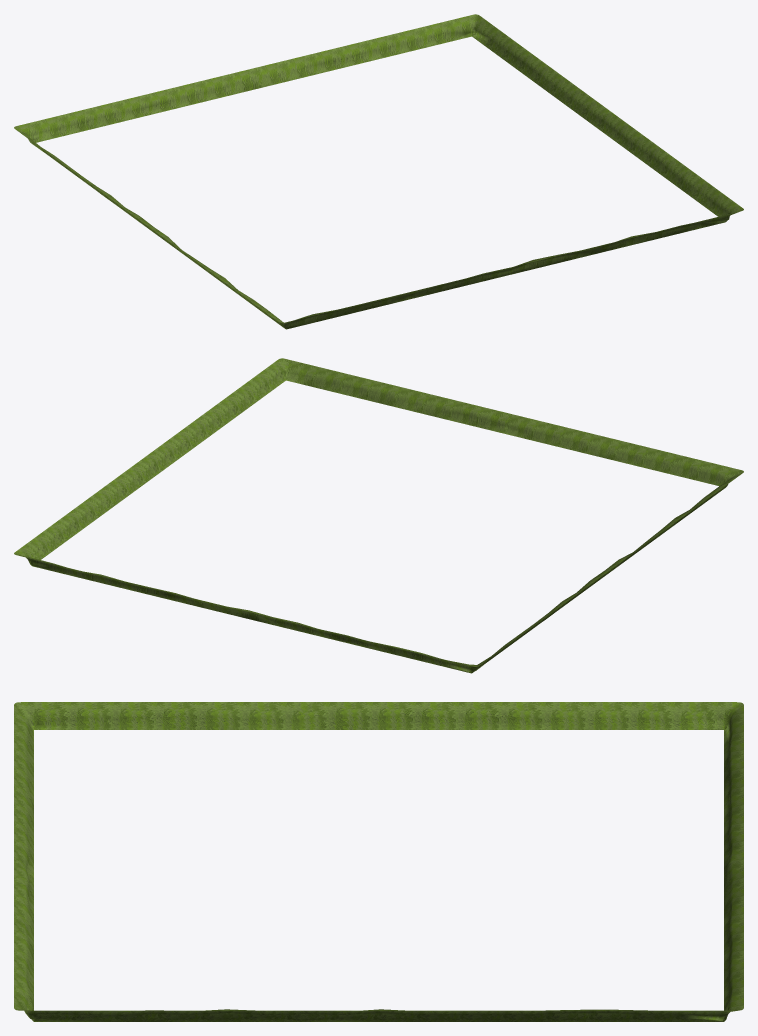
The model's file is border.obj.
3 renders of one model, top to bottom at view 1: azimuth 30°, elevation 25°; view 2: azimuth 150°, elevation 25°; view 3: azimuth 270°, elevation 25°, orthographic. The views are drawn at different scales.
Parts seen in each view (by area): view 1: Box007; view 2: Box007; view 3: Box007.
Boxes of the visible parts, x1=… form: Box007: x1=14, y1=14, x2=743, y2=329; Box007: x1=14, y1=358, x2=743, y2=673; Box007: x1=14, y1=702, x2=743, y2=1021.
Size of the model in its own units: 853 by 25.2 by 853.
1 material, 1 textured.
